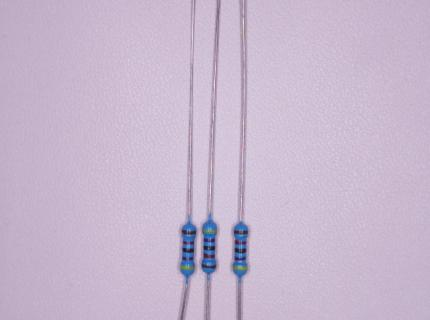Black band: (182, 248, 194, 253), (203, 246, 215, 250), (182, 256, 193, 260)
Brown band: (181, 230, 196, 235), (201, 264, 216, 269), (233, 230, 248, 234), (235, 248, 246, 253)
Red band: (235, 240, 247, 245), (203, 254, 215, 258), (183, 241, 194, 245)
Violet band: (203, 238, 215, 242), (234, 257, 246, 261)
Yellow band: (233, 265, 248, 271), (202, 228, 217, 233), (180, 265, 195, 270)
